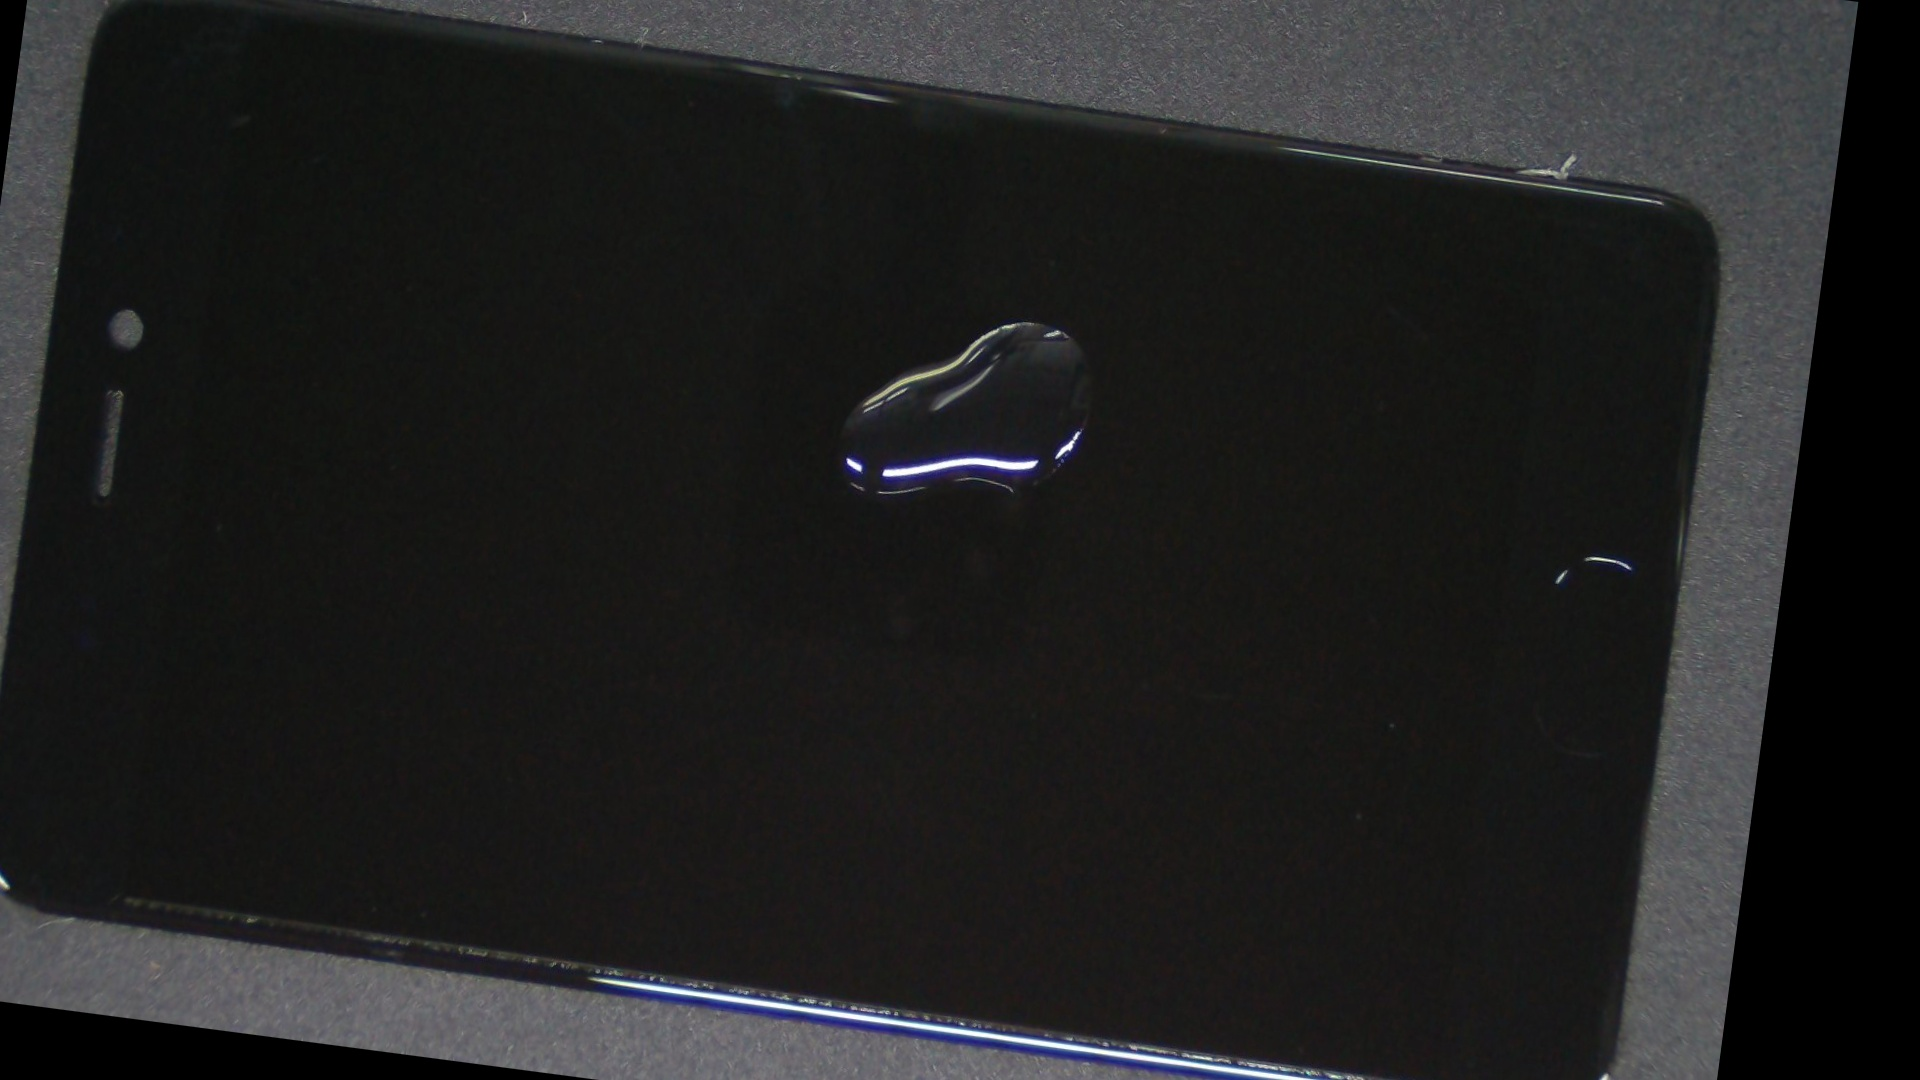oil: (493, 44, 1582, 600)
